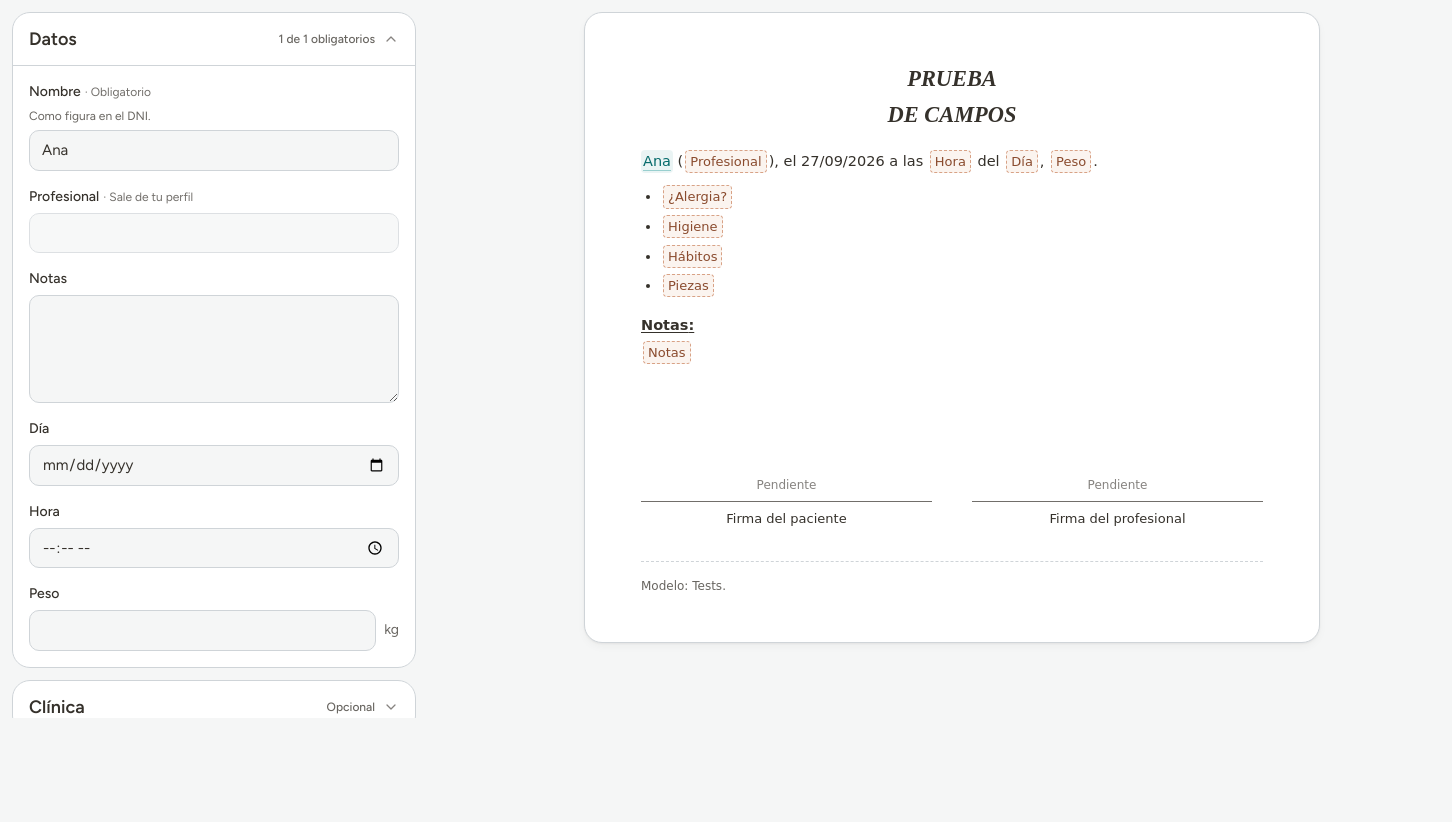
Test: EditorDeDocumento › si la API rechaza el guardado, marca el campo
The image size is (1452, 822).
Replace the text in the field labelled "Nombre· Obligatorio" with "Ana M" at (214, 150), box [29,130,399,170]
Wait 1000 ms
(page scrolled)
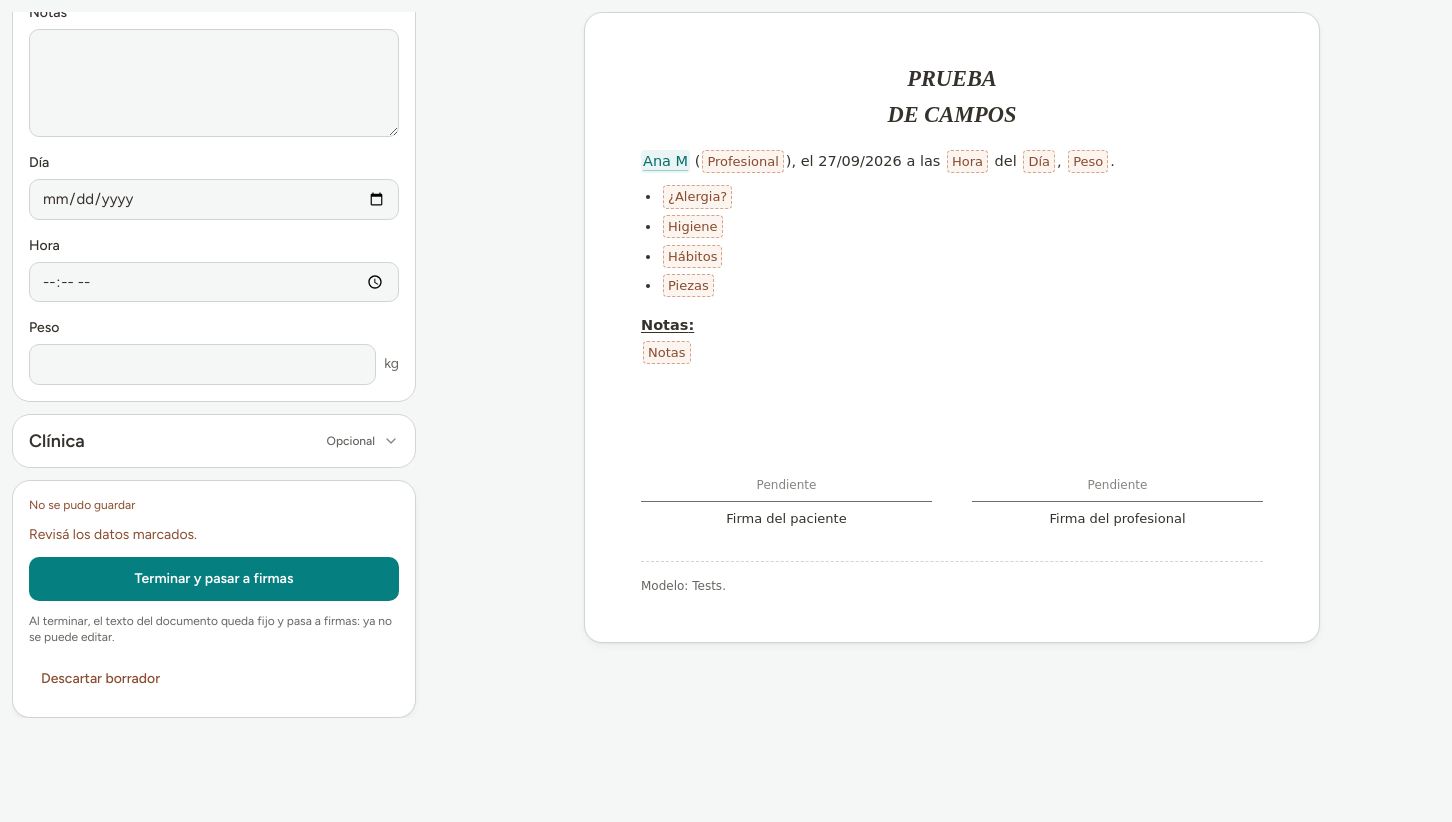
Check: the text "Revisá los datos marcados." is shown, box [29,526,197,542]
